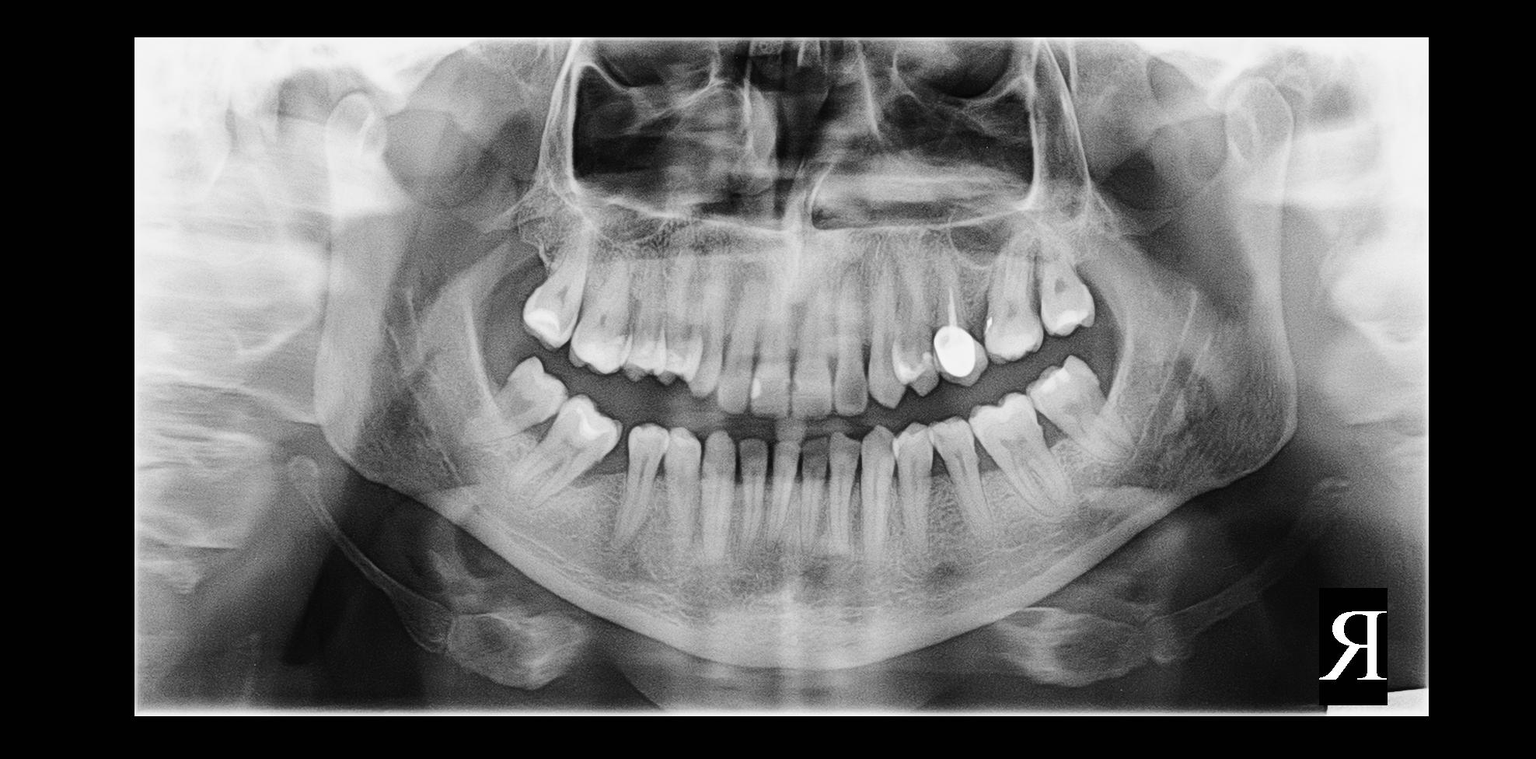Premolars: (382, 209, 1194, 630), (393, 87, 1151, 435)
